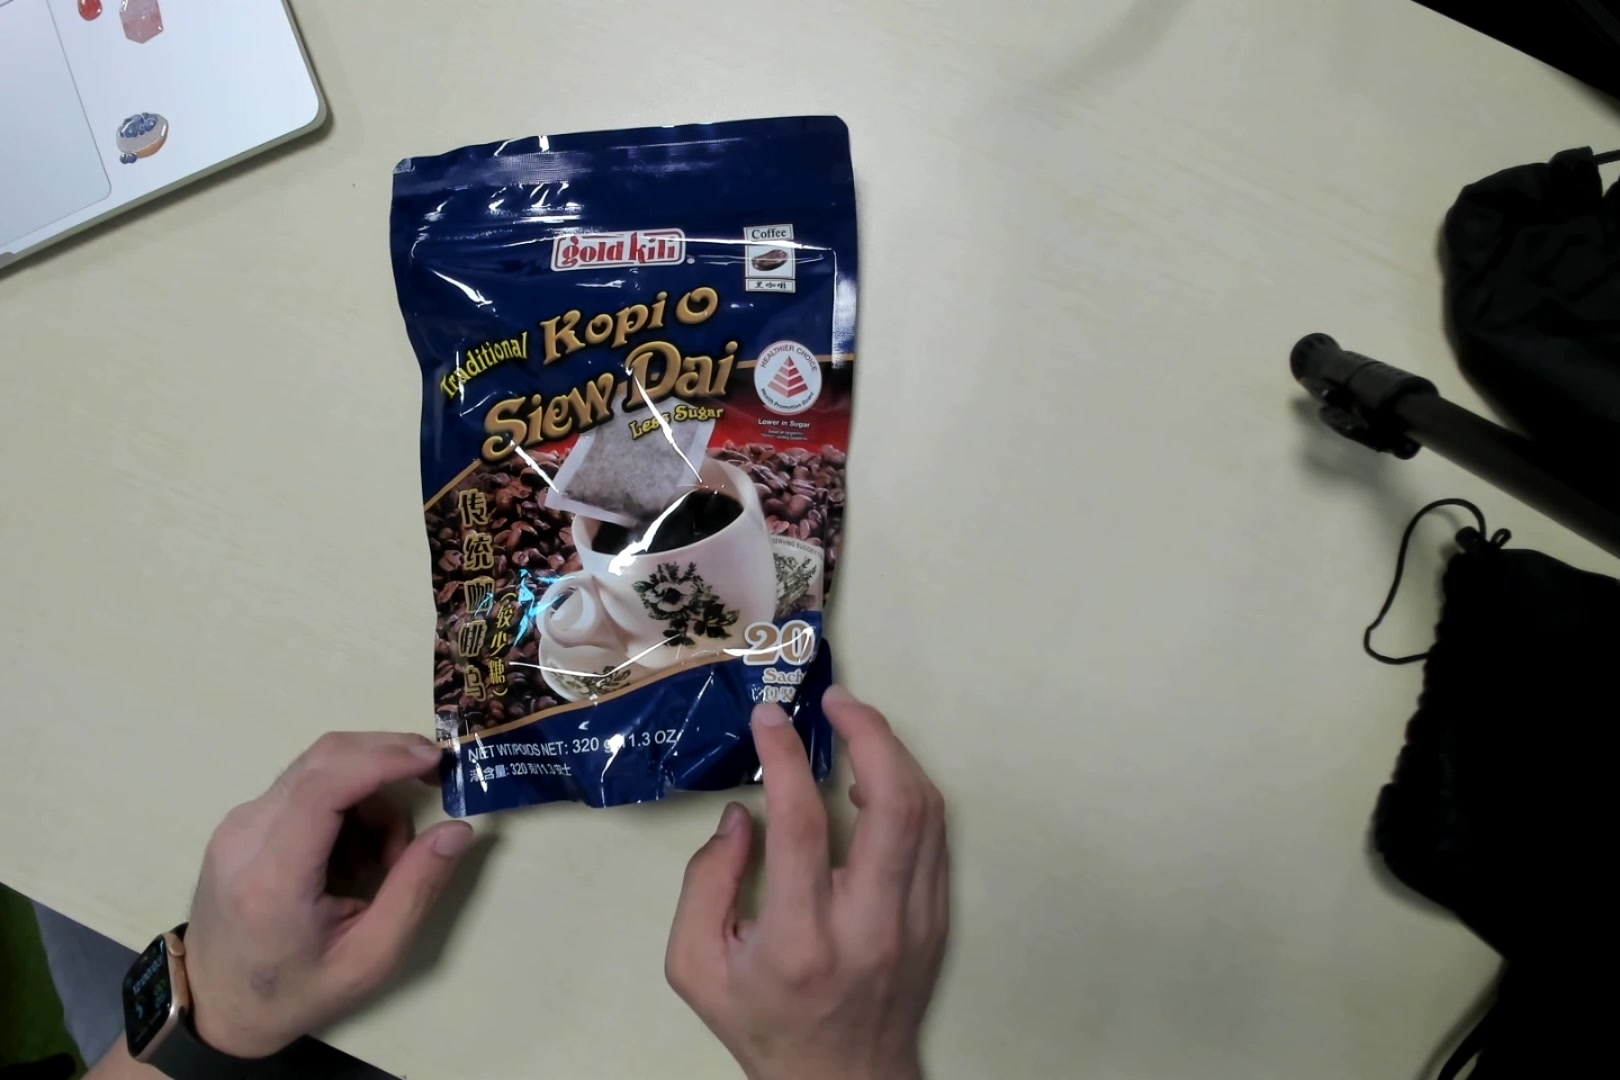Coffee(Powder)_300-399g_Halal_Healthy: (398, 141, 849, 785)
